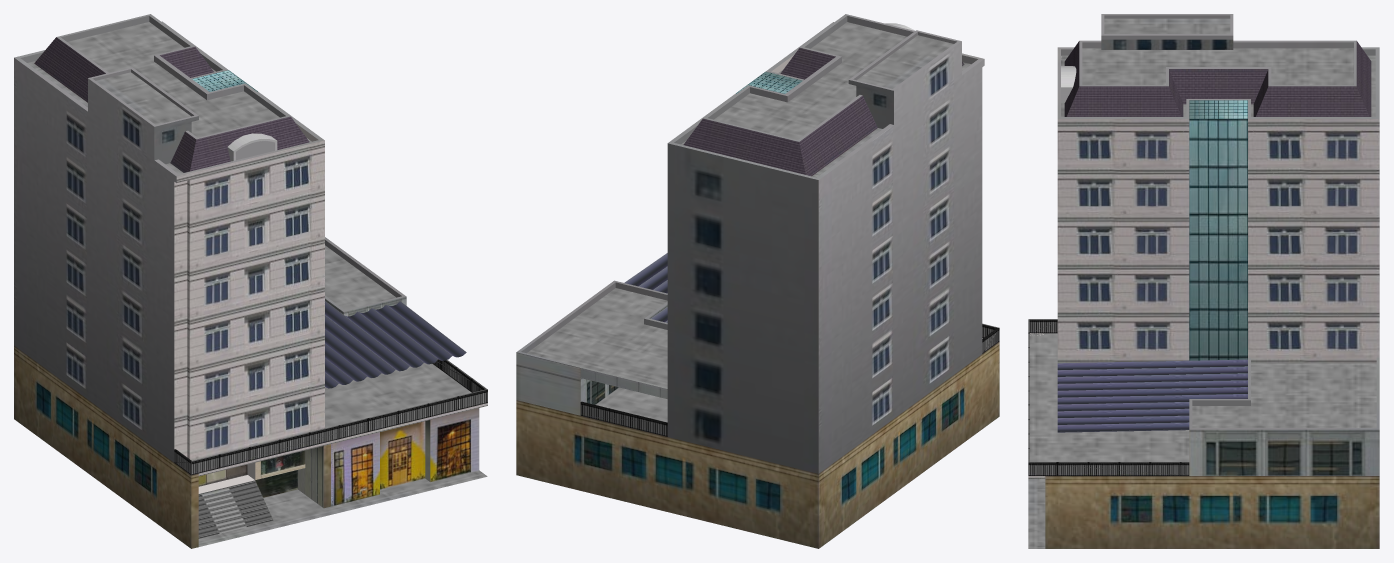
The picture shows the model from 3 angles, left to right: view 1: azimuth 30°, elevation 25°; view 2: azimuth 150°, elevation 25°; view 3: azimuth 270°, elevation 25°; orthographic projection. The views are drawn at different scales.
Parts seen in each view (by area): view 1: 5ccd07a76dc76ce3449608d1.001; view 2: 5ccd07a76dc76ce3449608d1.001; view 3: 5ccd07a76dc76ce3449608d1.001.
Part boxes in pixels (left/top/right/bottom): 5ccd07a76dc76ce3449608d1.001: left=14, top=14, right=487, bottom=548; 5ccd07a76dc76ce3449608d1.001: left=516, top=14, right=999, bottom=548; 5ccd07a76dc76ce3449608d1.001: left=1028, top=14, right=1379, bottom=548.
Bounding box in the file's own units: 23.17 × 29.5 × 24.
Materials: 1 (1 with a texture image).
